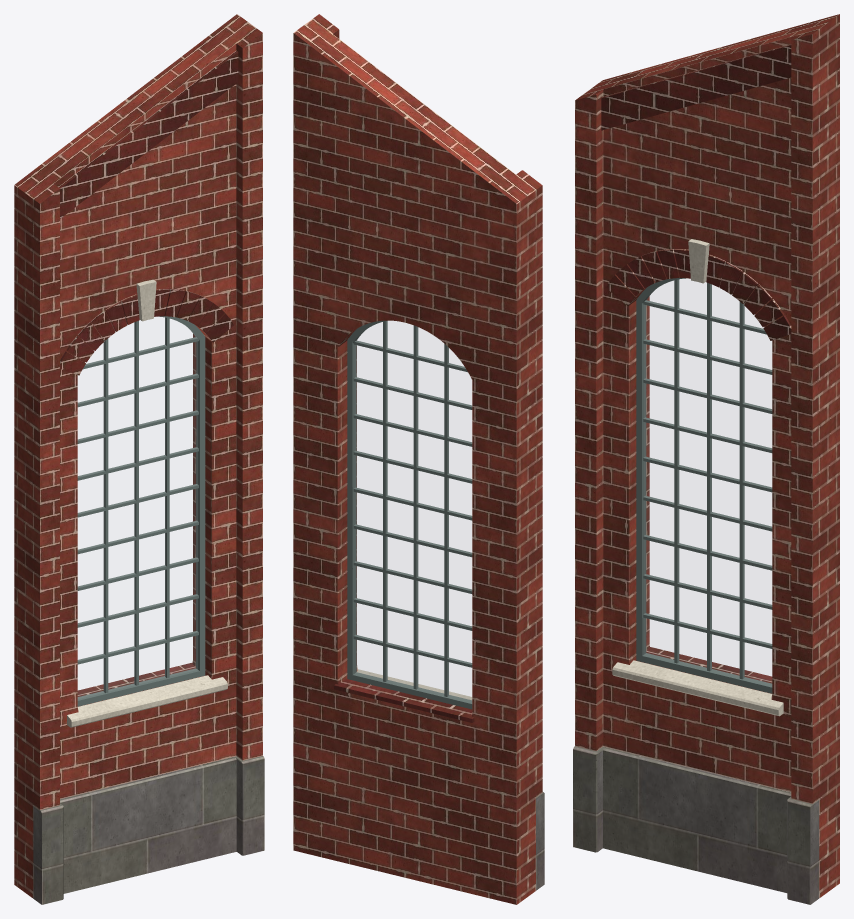
Rendered from h_side_window_l0.glb.
The picture shows the model from 3 angles, left to right: view 1: azimuth 30°, elevation 25°; view 2: azimuth 150°, elevation 25°; view 3: azimuth 330°, elevation 25°; orthographic projection. The views are drawn at different scales.
Parts seen in each view (by area): view 1: h_side_window_l0_brick, folha_glass, h_side_window_l0_plinth, folha_wframe, h_side_window_l0_brick2, h_side_window_l0_trim; view 2: h_side_window_l0_brick, folha_glass, folha_wframe, h_side_window_l0_brick2, h_side_window_l0_plinth; view 3: h_side_window_l0_brick, folha_glass, h_side_window_l0_plinth, folha_wframe, h_side_window_l0_brick2, h_side_window_l0_trim.
Part boxes in pixels (bbox=[...]): h_side_window_l0_brick: bbox=[14, 14, 262, 898]; folha_glass: bbox=[78, 317, 197, 698]; h_side_window_l0_plinth: bbox=[33, 756, 264, 904]; folha_wframe: bbox=[77, 316, 205, 706]; h_side_window_l0_brick2: bbox=[58, 50, 238, 696]; h_side_window_l0_trim: bbox=[67, 279, 227, 727]; h_side_window_l0_brick: bbox=[293, 14, 542, 904]; folha_glass: bbox=[355, 321, 471, 701]; folha_wframe: bbox=[347, 320, 472, 709]; h_side_window_l0_brick2: bbox=[334, 679, 474, 722]; h_side_window_l0_plinth: bbox=[536, 792, 544, 890]; h_side_window_l0_brick: bbox=[575, 14, 839, 897]; folha_glass: bbox=[644, 279, 771, 684]; h_side_window_l0_plinth: bbox=[573, 746, 819, 904]; folha_wframe: bbox=[636, 277, 772, 693]; h_side_window_l0_brick2: bbox=[601, 44, 791, 683]; h_side_window_l0_trim: bbox=[612, 239, 783, 716].
Bounding box in the file's own units: 2 × 7 × 0.46.
6 materials, 4 textured.
